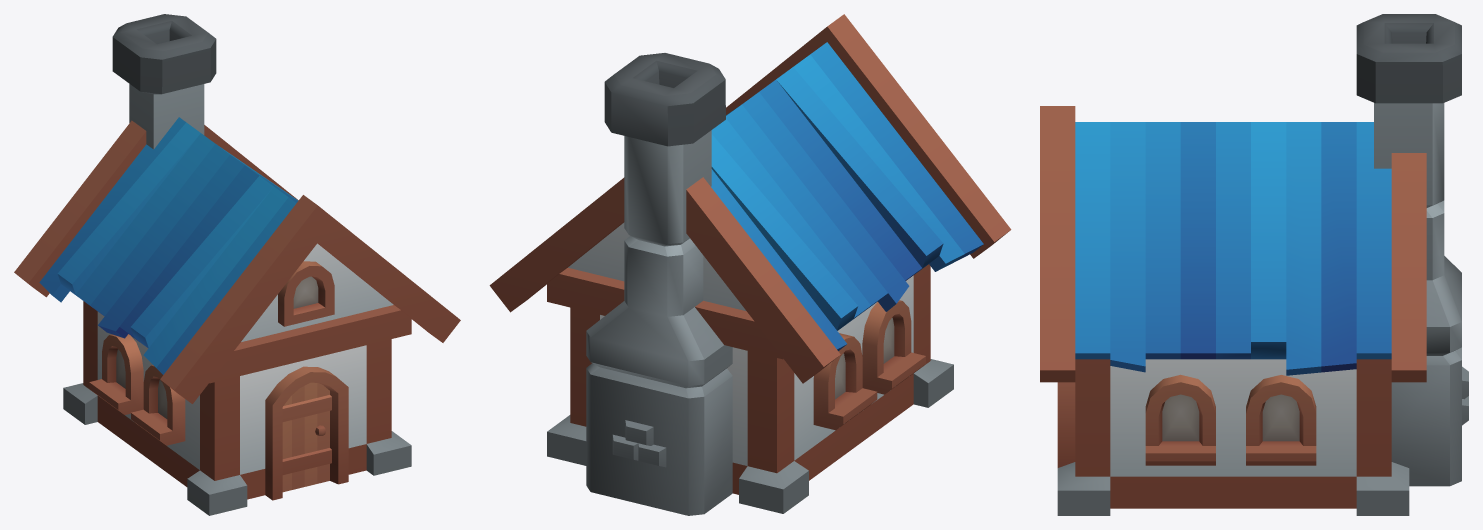
The model's file is house.glb.
3 views of the same model, side by side, from view 1: azimuth 30°, elevation 25°; view 2: azimuth 150°, elevation 25°; view 3: azimuth 270°, elevation 25° (orthographic). The views are drawn at different scales.
Parts seen in each view (by area): view 1: building_home_A_blue; view 2: building_home_A_blue; view 3: building_home_A_blue.
Boxes of the visible parts, left/top/right/bottom form: building_home_A_blue: left=14, top=14, right=460, bottom=515; building_home_A_blue: left=489, top=14, right=1011, bottom=515; building_home_A_blue: left=1040, top=14, right=1468, bottom=515.
Size of the model in its own units: 0.792 by 0.93 by 0.8537.
1 material, 1 textured.
